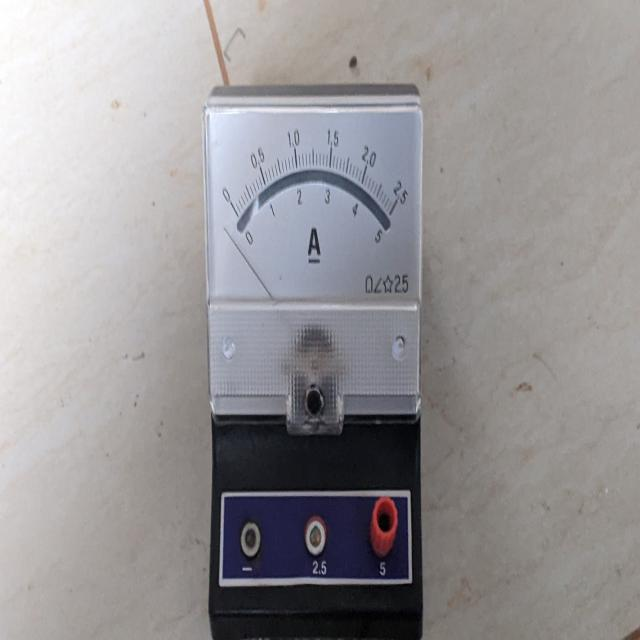Ammeter Analog: (195, 87, 428, 640)
